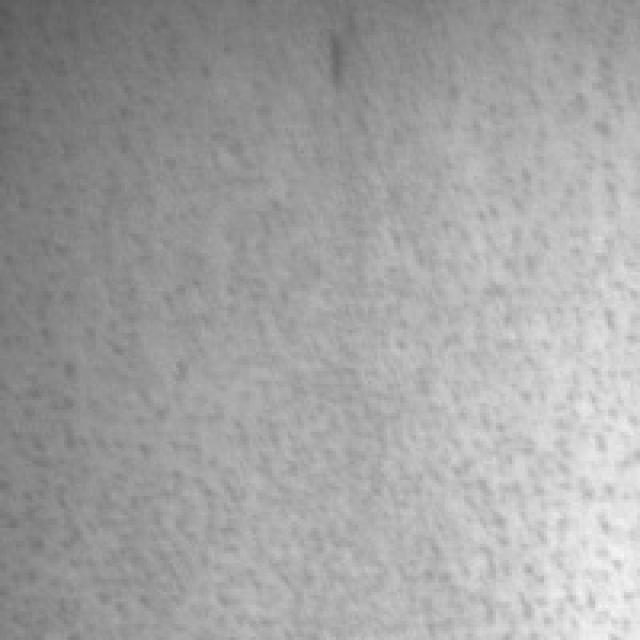pitted_surface: (419, 3, 640, 630), (3, 6, 154, 564)
